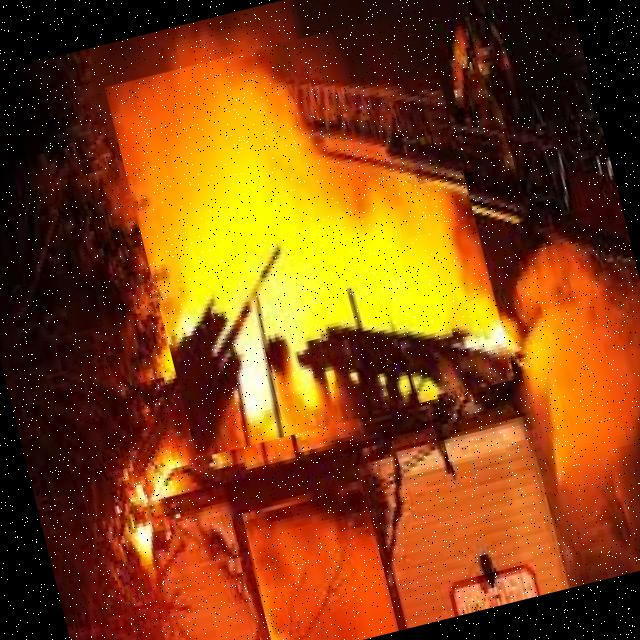fire: (103, 11, 514, 462)
